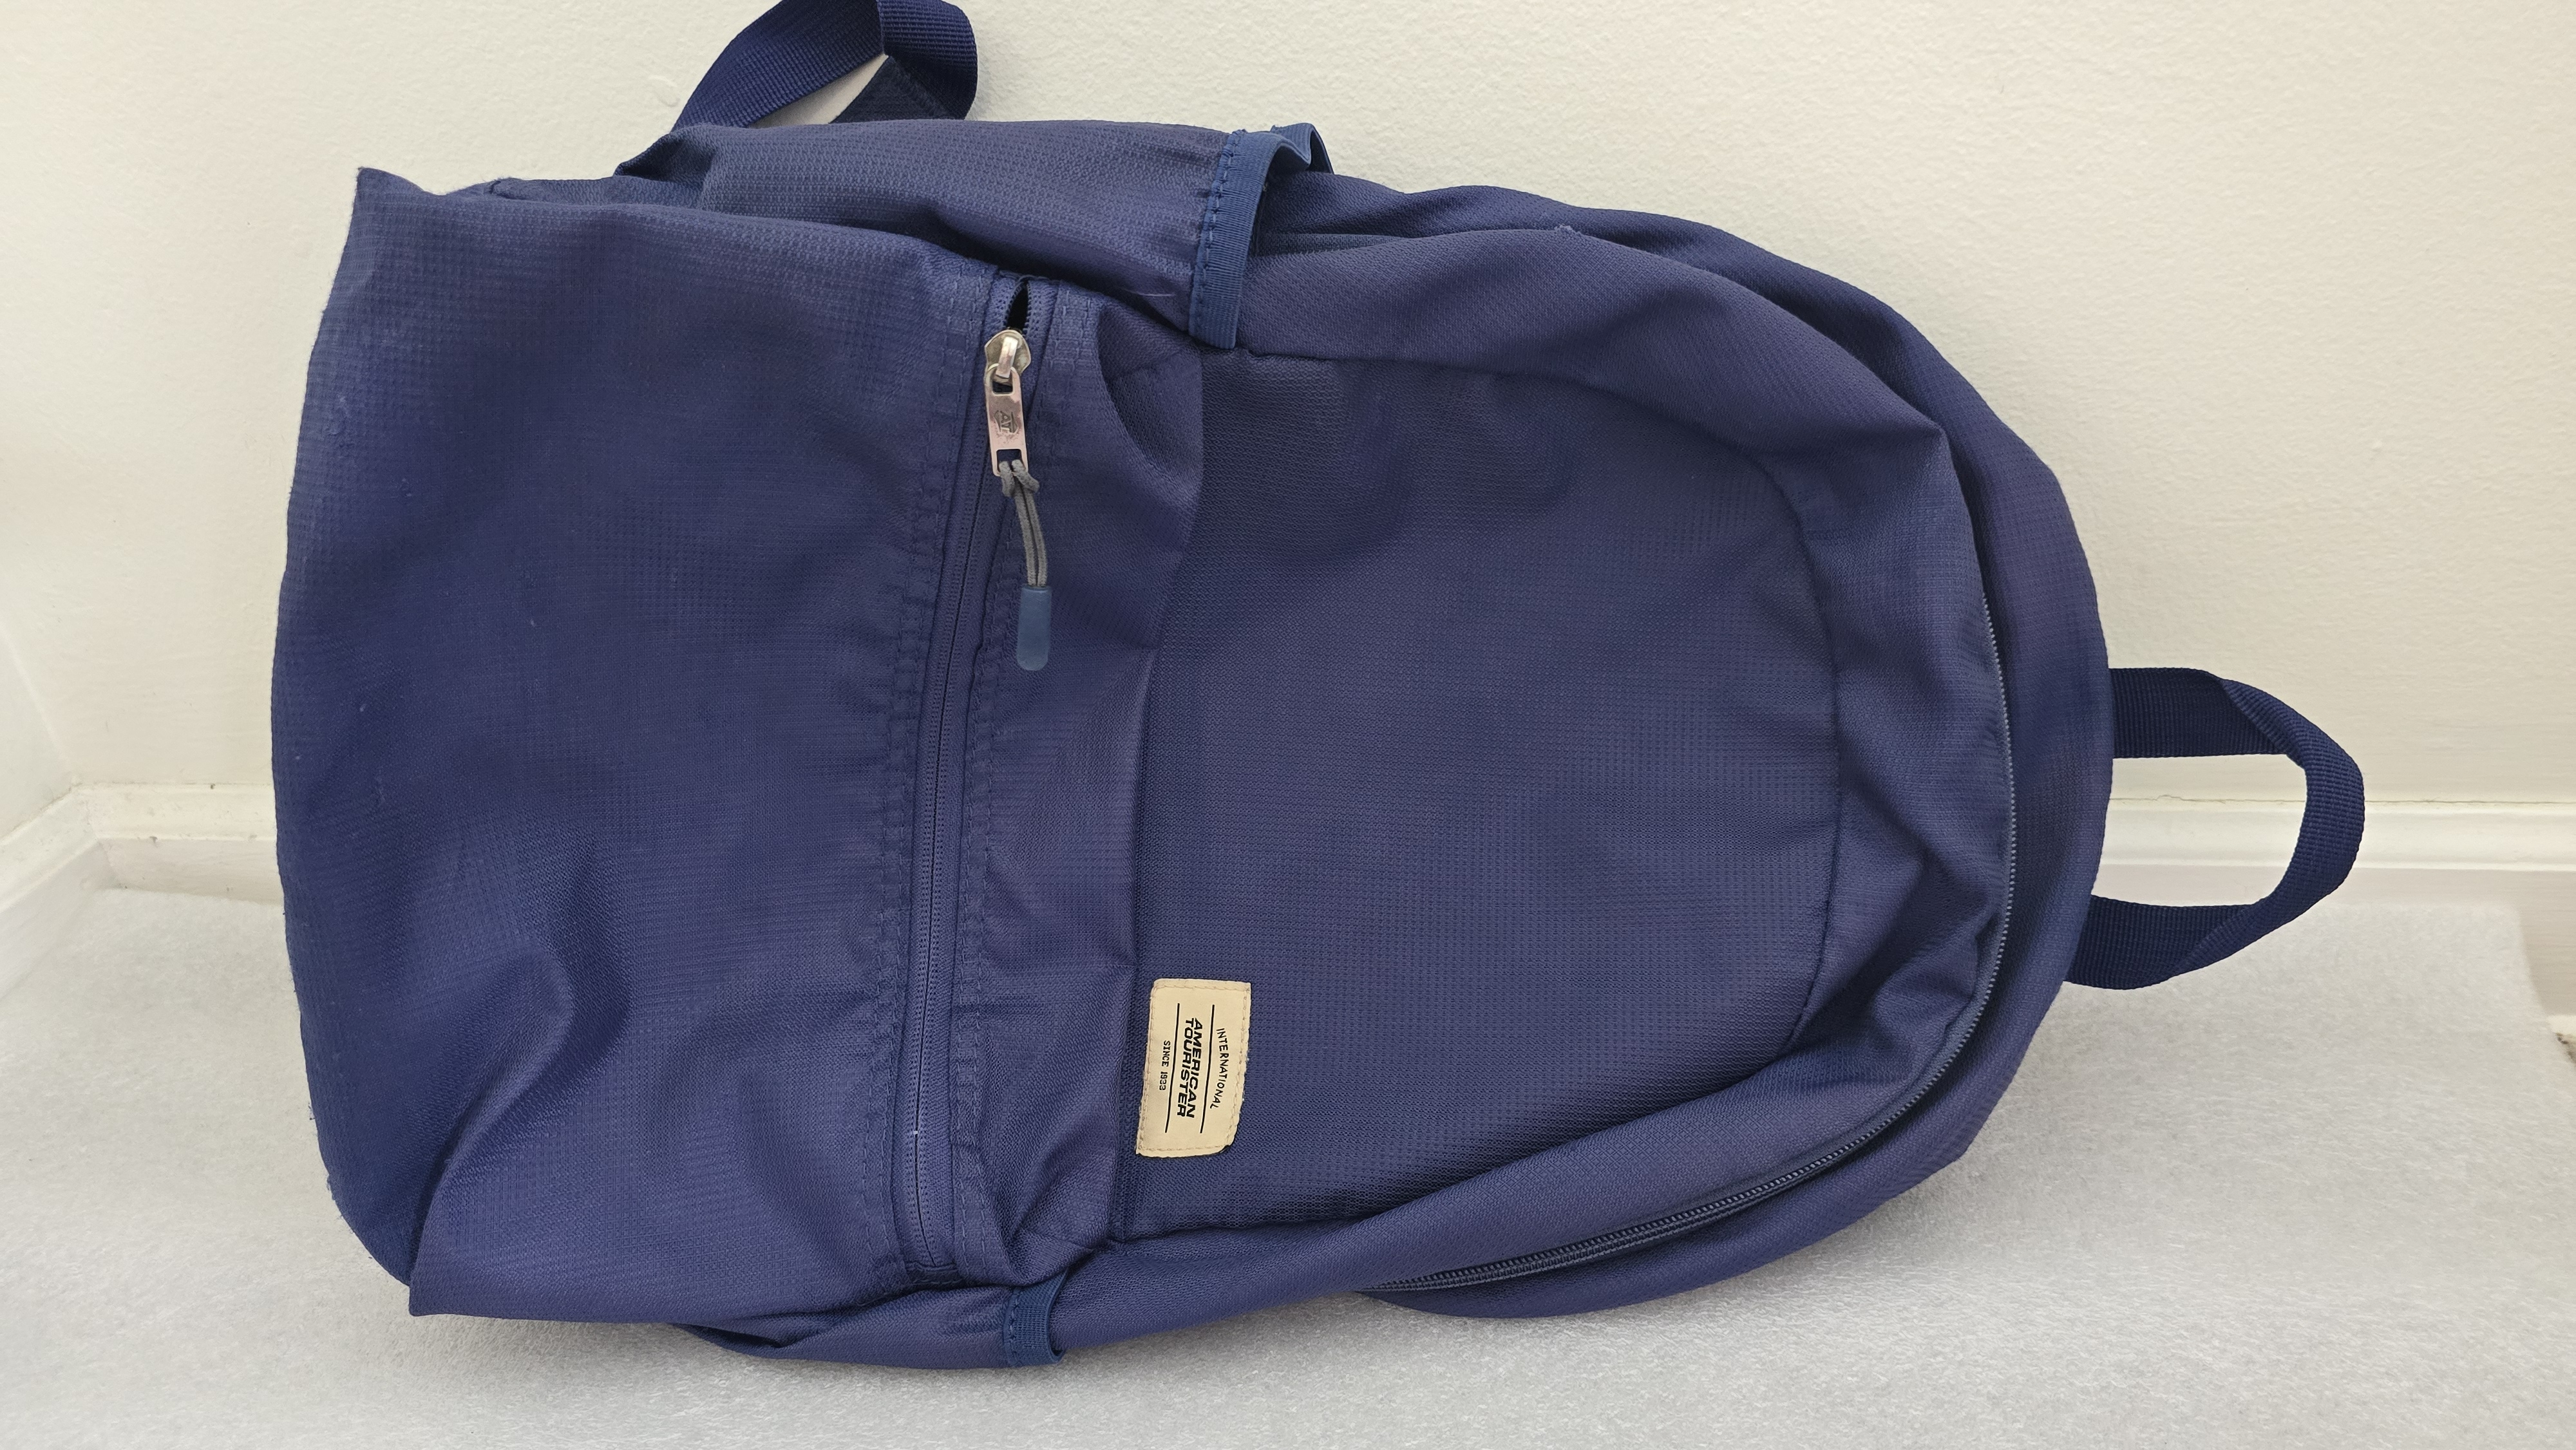bag: (262, 55, 2443, 1344)
